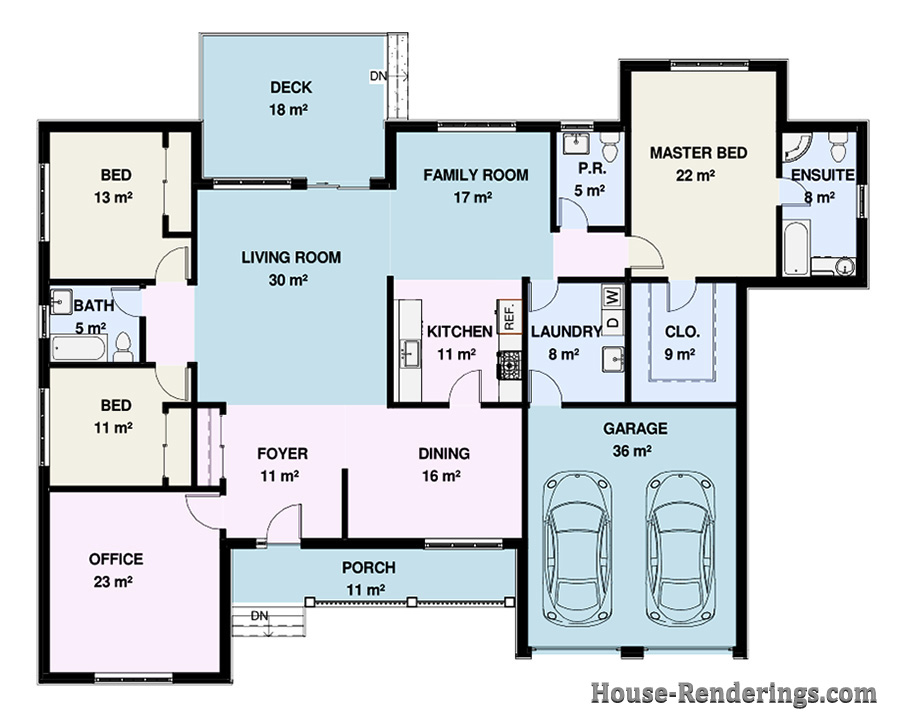door: (261, 497, 307, 539), (636, 236, 672, 273), (662, 276, 698, 313), (526, 284, 562, 321), (529, 364, 565, 401), (448, 366, 484, 403), (180, 492, 216, 529), (153, 245, 190, 276), (153, 369, 190, 400), (103, 286, 140, 317), (556, 195, 593, 226)
